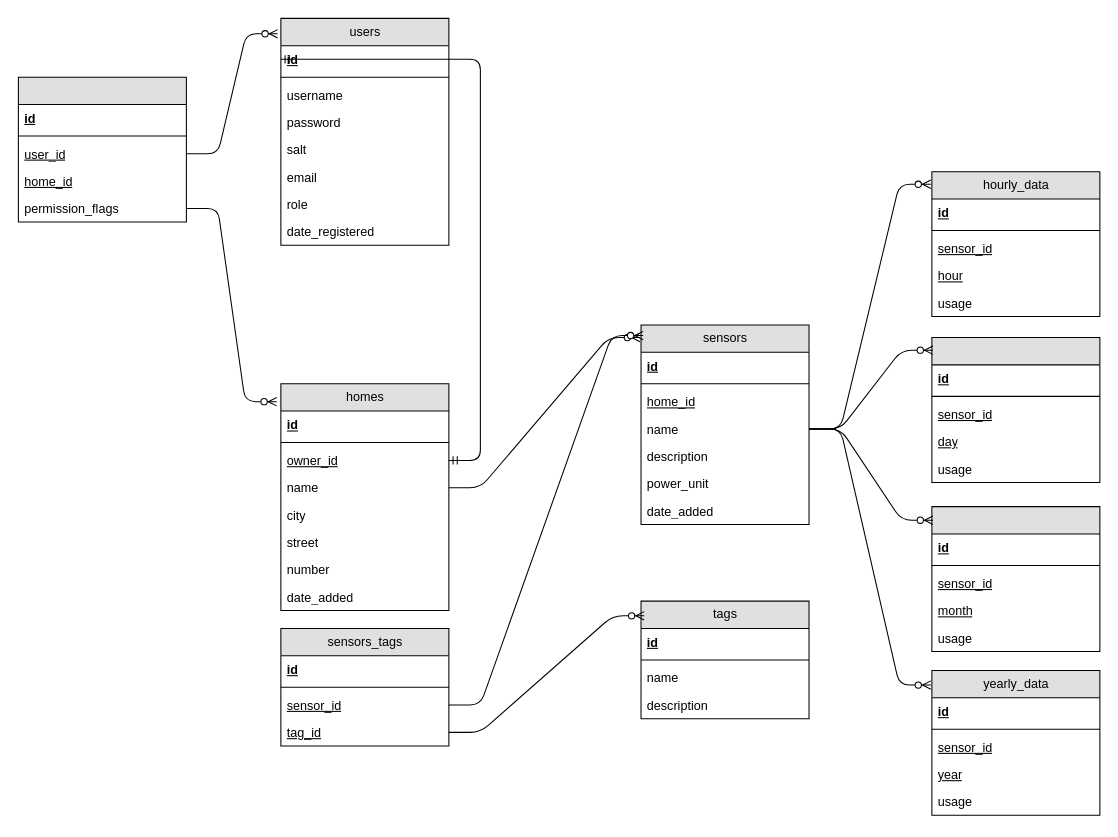
The diagram is 1118 pixels wide and 837 high, and some of its shapes have lost their labels. Here are the shapes that lost their labels. From the top down, the box of each, then its label:
(17, 76, 186, 222): users_homes
(931, 337, 1100, 482): daily_data
(931, 506, 1100, 652): monthly_data
